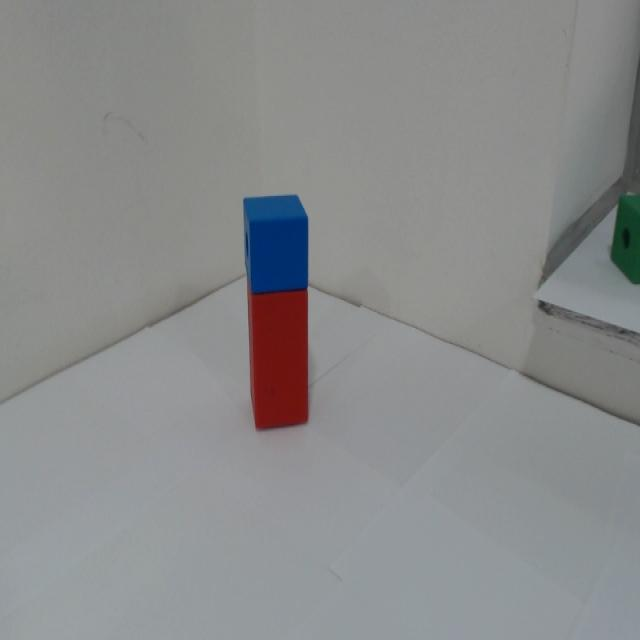cube: (221, 157, 324, 292)
